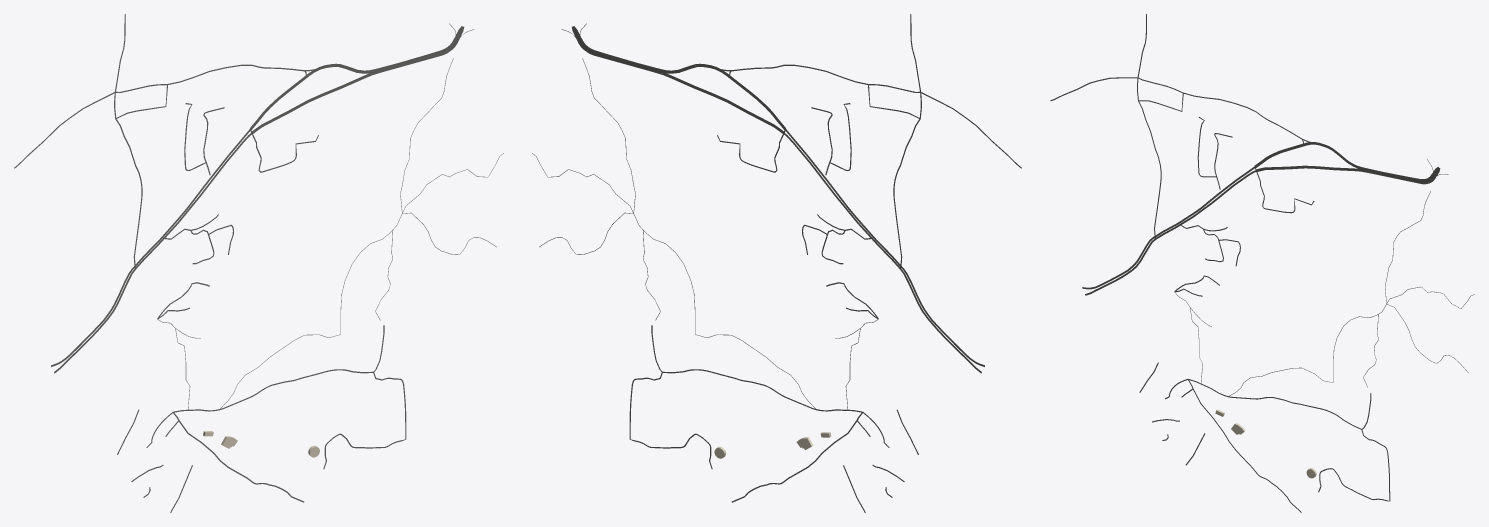
The model's file is historic-palestine-10_30_3521_3240.glb.
3 renders of one model, left to right at view 1: azimuth 30°, elevation 25°; view 2: azimuth 150°, elevation 25°; view 3: azimuth 330°, elevation 25°, orthographic. The views are drawn at different scales.
Visible parts, largest first — view 1: Road 5858.001, Road 5858, Road .029, Road .023, Road .017; view 2: Road 5858, Road 5858.001, Road .023, Road .029, Road .017; view 3: Road 5858, Road 5858.001, Road .023, Road .029.
Part boxes in pixels (x1,y1,x2,y2): Road 5858.001: [251, 26, 464, 133]; Road 5858: [250, 26, 463, 129]; Road .029: [51, 129, 250, 366]; Road .023: [54, 133, 251, 373]; Road .017: [14, 64, 304, 168]; Road 5858: [572, 26, 785, 129]; Road 5858.001: [571, 26, 784, 133]; Road .023: [784, 133, 981, 373]; Road .029: [785, 129, 984, 366]; Road .017: [731, 64, 1021, 168]; Road 5858: [1254, 142, 1439, 181]; Road 5858.001: [1256, 165, 1440, 184]; Road .023: [1085, 170, 1255, 295]; Road .029: [1082, 166, 1255, 289].
Bounding box in the file's own units: 1335 × 1386 × 8.7.
